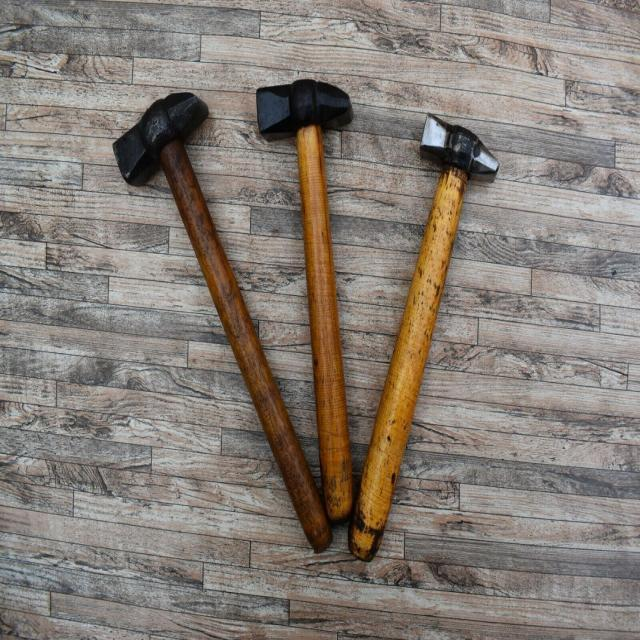hammer: (109, 85, 331, 564), (344, 108, 502, 576), (252, 74, 354, 526)
